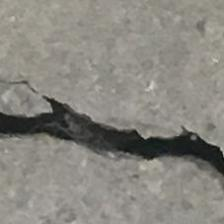Crack: (0, 75, 224, 168)
